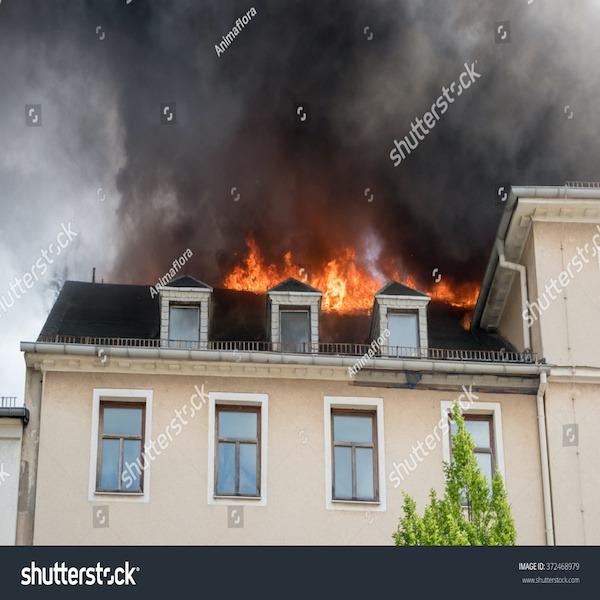fire: (318, 224, 372, 313), (220, 224, 281, 291), (429, 249, 479, 307)
